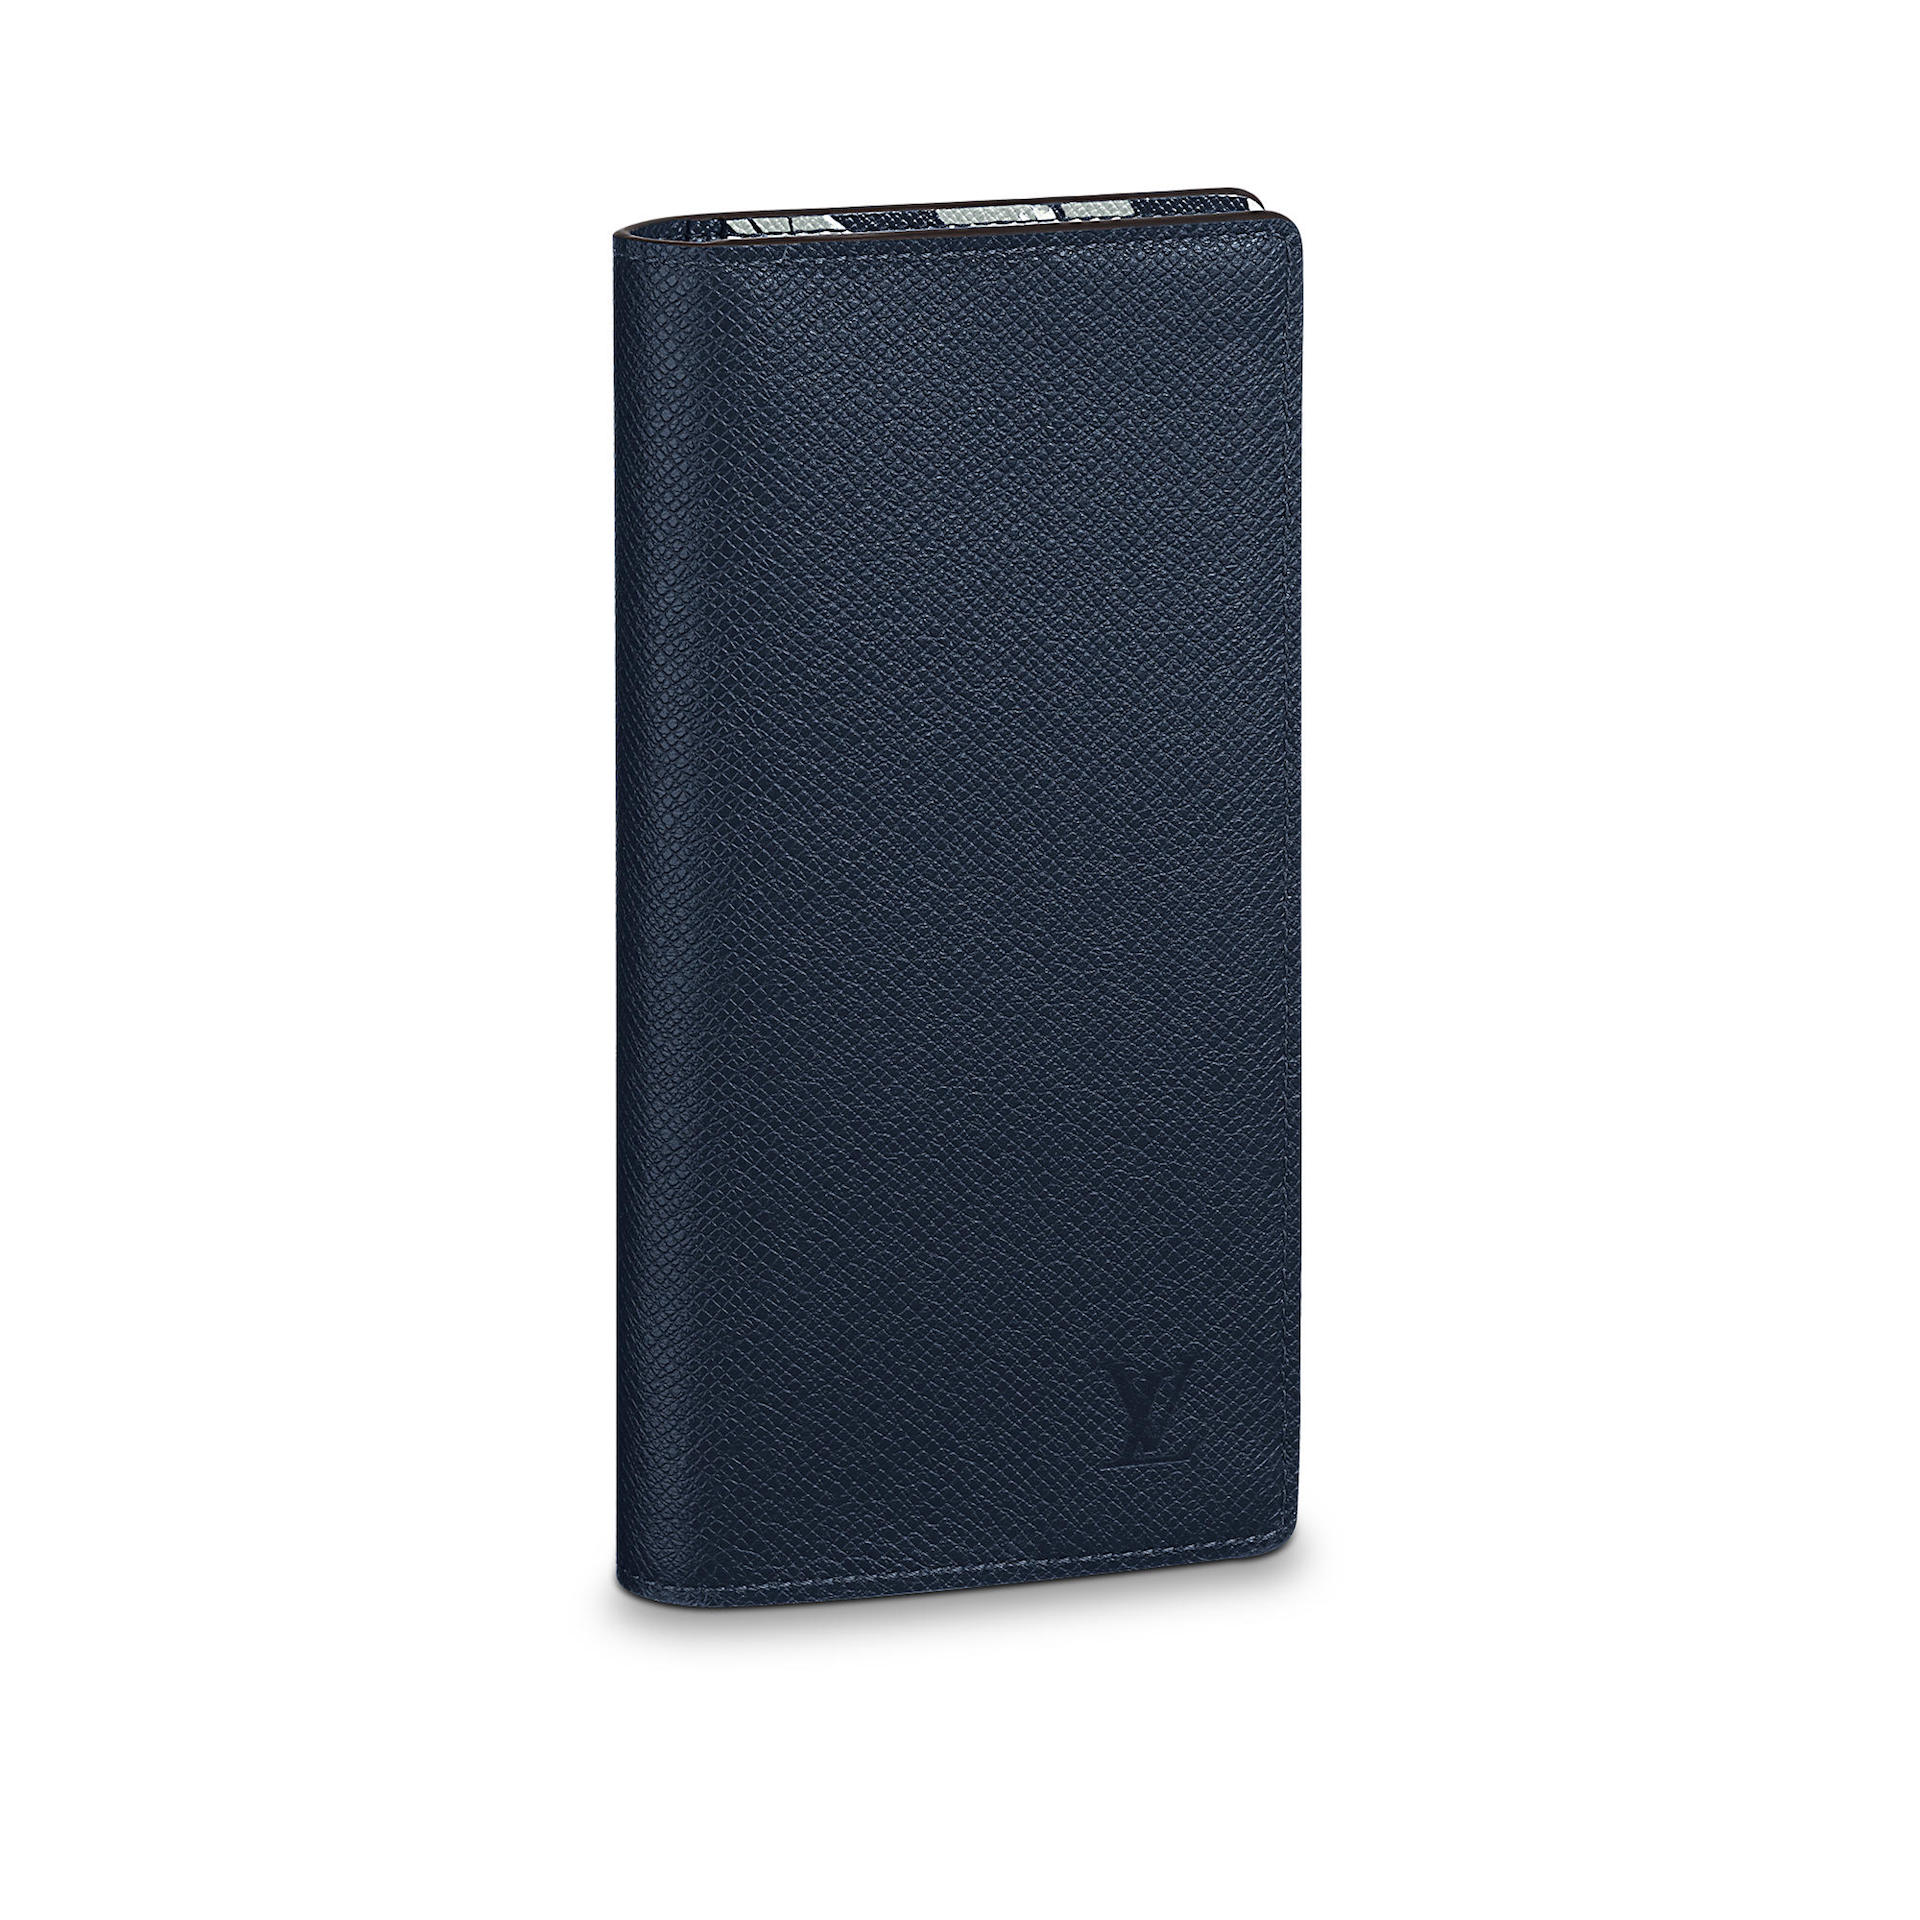monedero: (600, 183, 1313, 1626)
